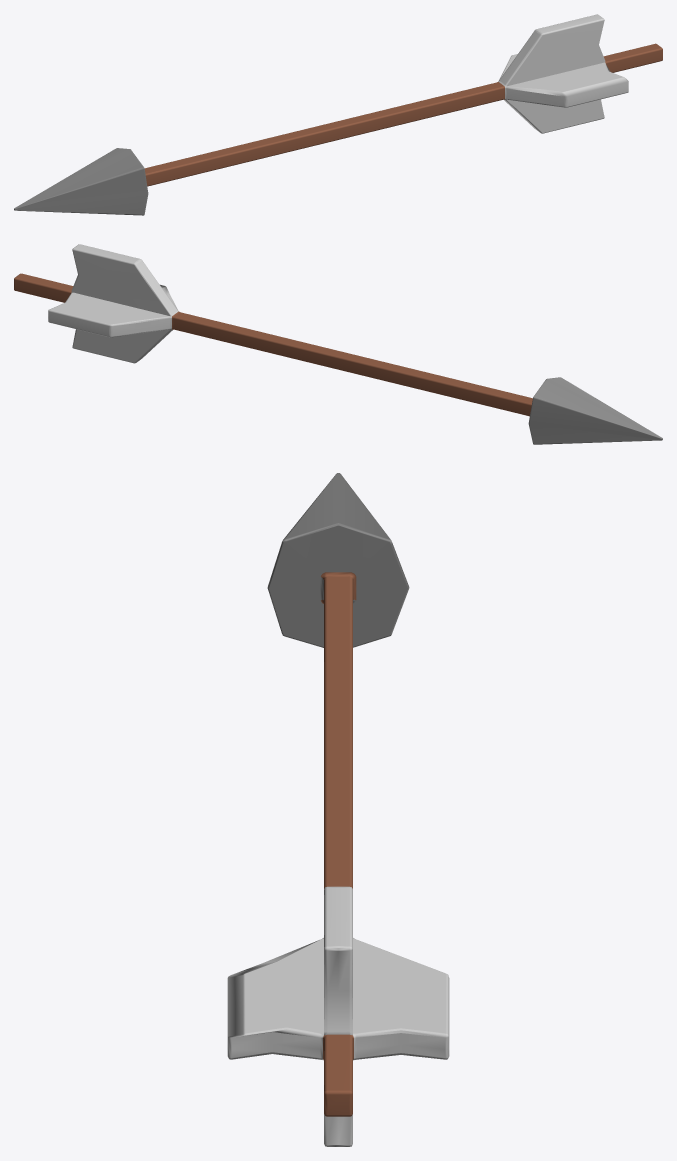
The model's file is Arrow.fbx.
3 renders of one model, top to bottom at view 1: azimuth 30°, elevation 25°; view 2: azimuth 150°, elevation 25°; view 3: azimuth 270°, elevation 25°, orthographic. The views are drawn at different scales.
Parts seen in each view (by area): view 1: Arrow; view 2: Arrow; view 3: Arrow.
Boxes of the visible parts, x1=… form: Arrow: x1=14, y1=14, x2=662, y2=215; Arrow: x1=14, y1=244, x2=662, y2=444; Arrow: x1=227, y1=473, x2=449, y2=1146.
Size of the model in its own units: 51.17 by 7.6 by 7.6.
